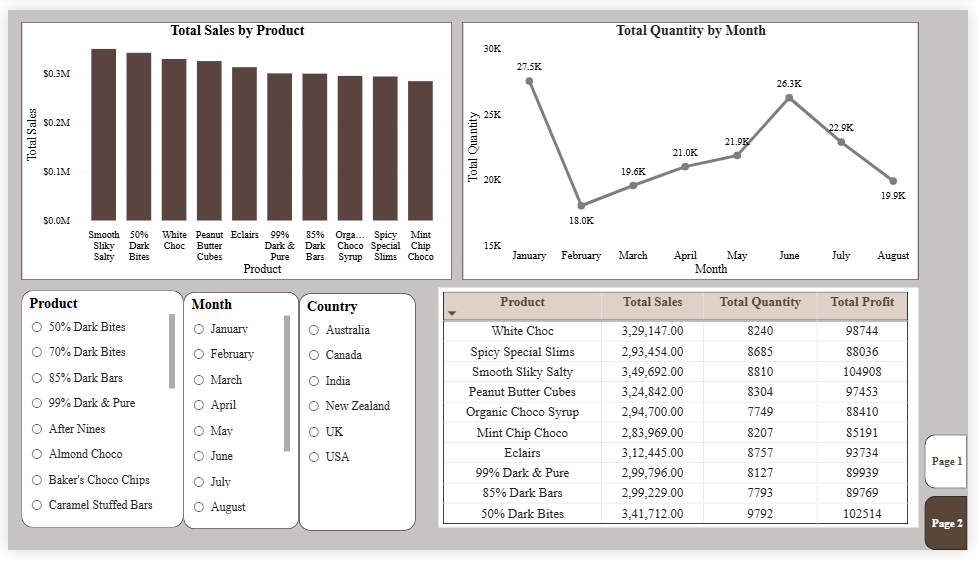

The dashboard page shown, as its layout file describes it:
{"tool":"powerbi","page":{"name":"Page 2","canvas":[1280,720],"ordinal":1},"visuals":[{"type":"lineChart","fields":{"Category":["Chocolate Sales.Date.Variation.Date Hierarchy.Month"],"Y":["Chocolate Sales.Total Quantity"]},"box":[606,16,608,344],"z":0},{"type":"clusteredColumnChart","title":"Total Sales by Product","fields":{"Category":["Chocolate Sales.Product"],"Y":["Chocolate Sales.Total Sales"]},"box":[18,16,574,344],"z":1000},{"type":"tableEx","fields":{"Values":["Chocolate Sales.Product","Chocolate Sales.Total Sales","Chocolate Sales.Total Quantity","Chocolate Sales.Total Profit"]},"box":[574,370,640,320],"z":2000},{"type":"listSlicer","fields":{"Values":["Chocolate Sales.Date.Variation.Date Hierarchy.Month"]},"box":[233.8,375,153.8,316.2],"z":3000},{"type":"listSlicer","fields":{"Values":["Chocolate Sales.Product"]},"box":[18,374,216,316],"z":4000},{"type":"listSlicer","fields":{"Values":["Chocolate Sales.Country"]},"box":[387.5,377.5,155,316.2],"z":5000},{"type":"pageNavigator","box":[1222.5,565.8,57.5,154.2],"z":6000}]}

Visuals, with their boxes in screenshot pixels (x1, y1, x2, y2), scaled from the page's 1280x720 canvas onto the 978x562 screenshot:
lineChart - Chocolate Sales.Date.Variation.Date Hierarchy.Month x Chocolate Sales.Total Quantity: BBox(463, 12, 928, 281)
"Total Sales by Product" clusteredColumnChart: BBox(14, 12, 452, 281)
tableEx - Chocolate Sales.Product x Chocolate Sales.Total Sales: BBox(439, 289, 928, 539)
listSlicer - Chocolate Sales.Date.Variation.Date Hierarchy.Month: BBox(179, 293, 296, 540)
listSlicer - Chocolate Sales.Product: BBox(14, 292, 179, 539)
listSlicer - Chocolate Sales.Country: BBox(296, 295, 415, 541)
pageNavigator: BBox(934, 442, 977, 561)
